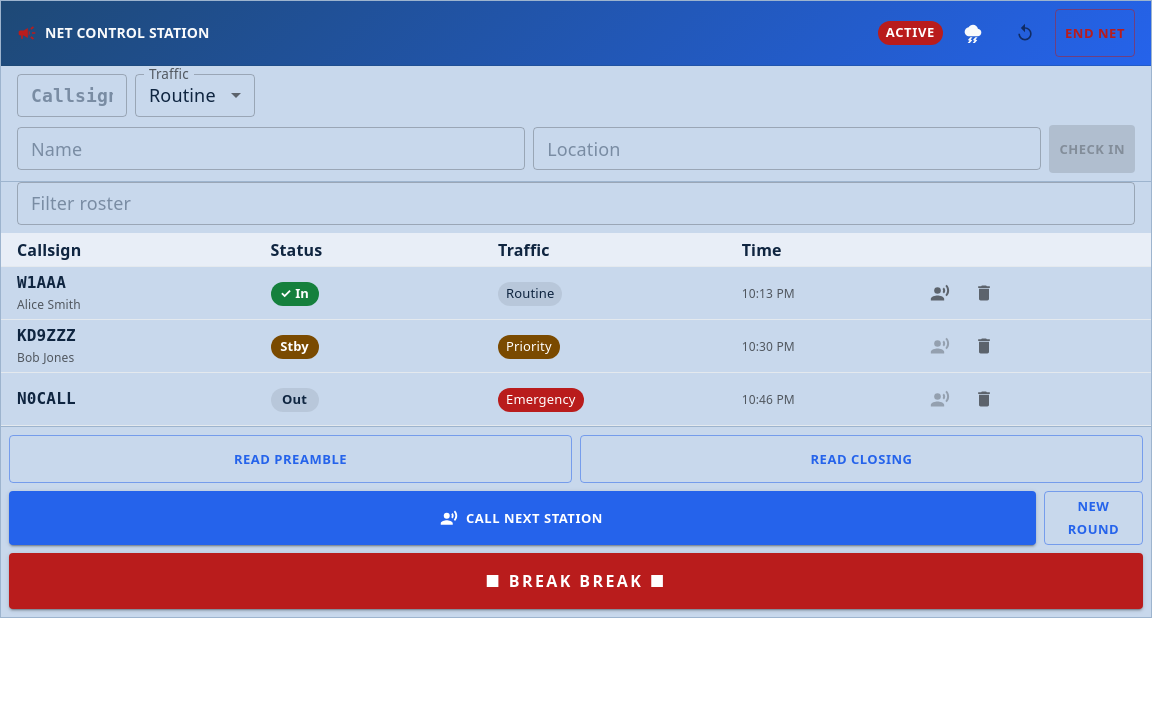
NCSPanel › roster table › hides non-matching rows when a callsign is typed into the roster filter
Type "KD9ZZZ" into the field labelled "Filter roster". click: coordinates (576, 203)
box: left=17, top=182, right=1135, bottom=225
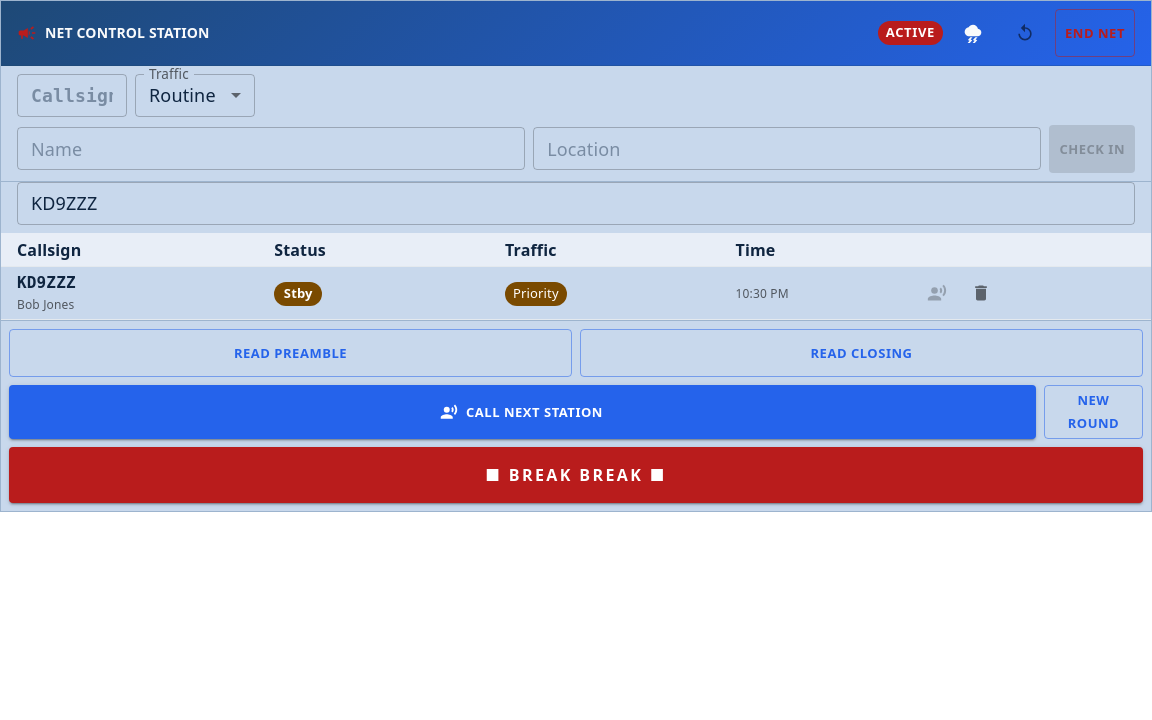
Expected: the text "KD9ZZZ" is shown, left=17, top=273, right=76, bottom=292
Expected: the text "W1AAA" is gone
Expected: the text "N0CALL" is gone
